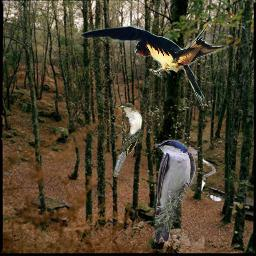Cuckoo: (113, 103, 143, 177)
Swallow: (77, 18, 253, 110), (151, 139, 196, 243)
